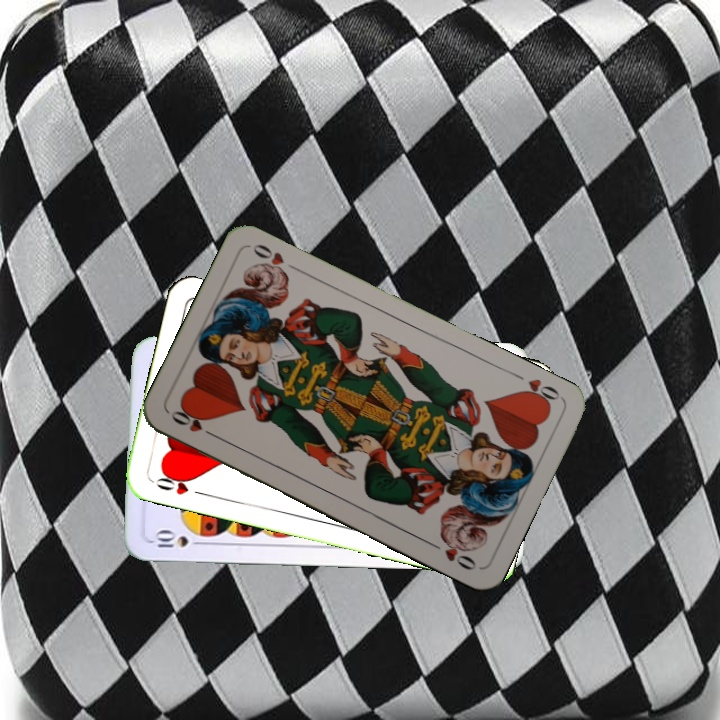HO: (509, 368, 563, 410), (166, 405, 221, 441), (152, 468, 207, 498)
S10: (152, 528, 208, 551)
